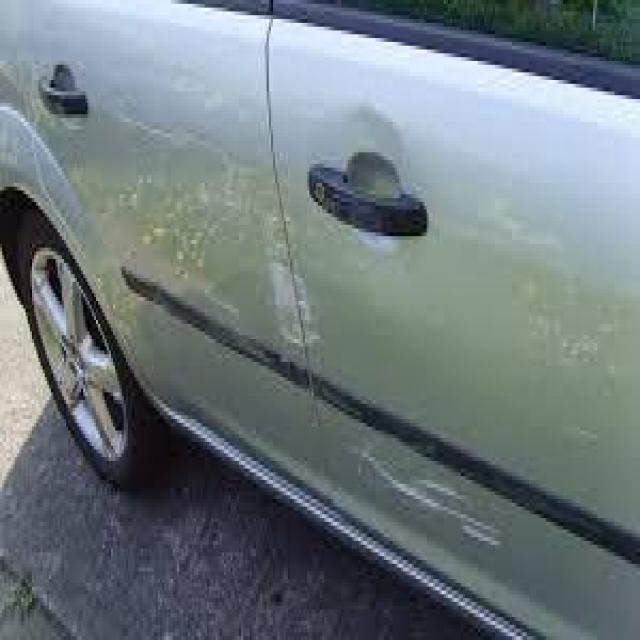damaged: (348, 450, 501, 552), (266, 217, 324, 354)
